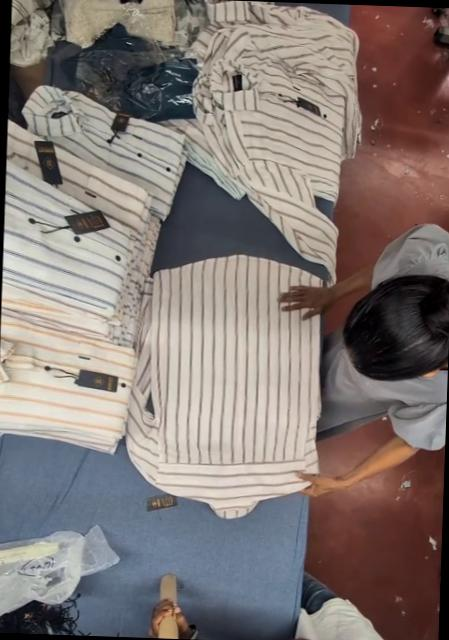new-garment: (126, 255, 320, 517)
